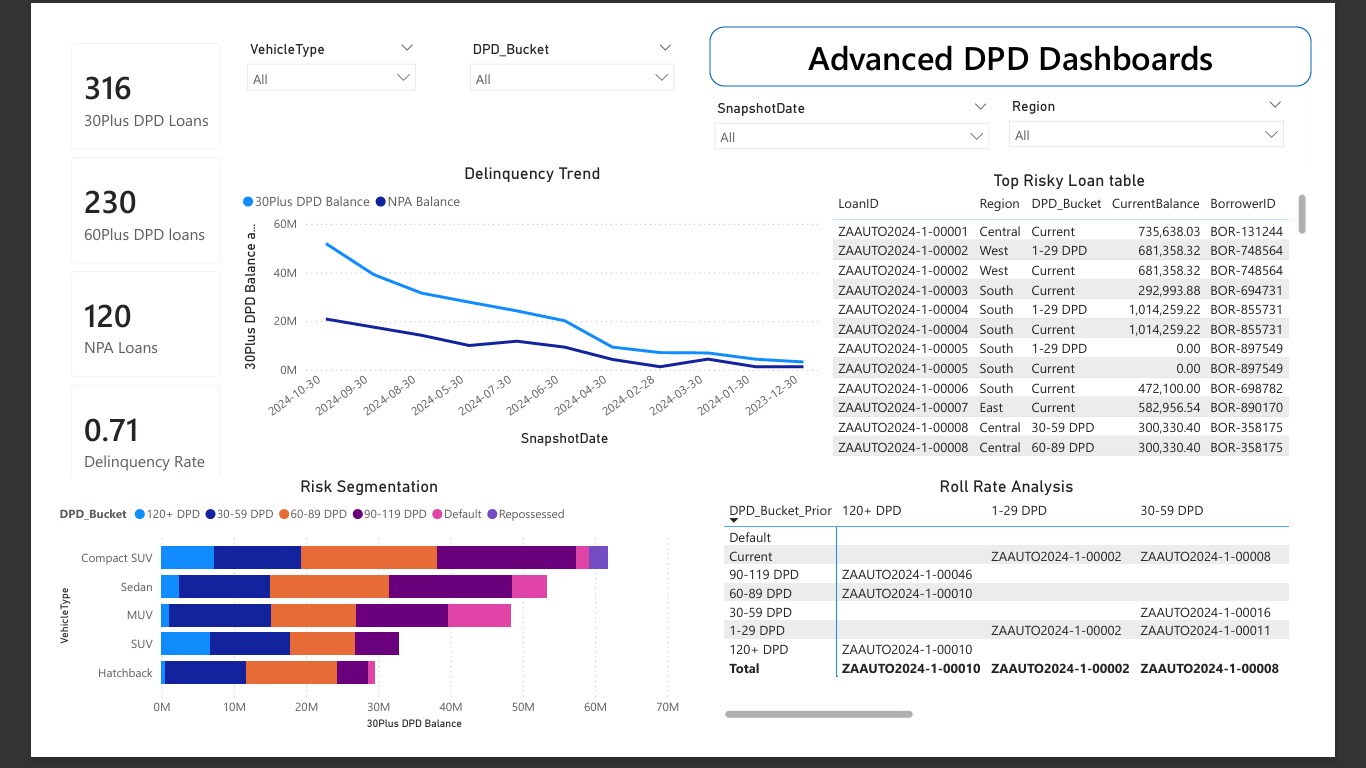

What the dashboard file says about the page in this screenshot:
{"tool":"powerbi","page":{"name":"Advanced DPD Dashboard","canvas":[1280,720],"ordinal":1},"visuals":[{"type":"cardVisual","fields":{"Data":["projects dim_date.30Plus DPD Loans","projects dim_date.60Plus DPD loans","projects dim_date.NPA Loans","projects dim_date.Delinquency Rate"]},"box":[0,0,185.5,491.3],"z":0},{"type":"pivotTable","title":"Roll Rate Analysis","fields":{"Rows":["projects fact_loan_performance.DPD_Bucket_Prior"],"Columns":["projects fact_loan_performance.DPD_Bucket"],"Values":["Min(projects fact_loan_performance.LoanID)"]},"box":[676.8,458,585.5,252.2],"z":1000},{"type":"lineChart","title":"Delinquency Trend","fields":{"Category":["projects fact_loan_performance.SnapshotDate"],"Y":["projects dim_date.30Plus DPD Balance","projects dim_date.NPA Balance"]},"box":[185.5,139.1,601.4,294.2],"z":2000},{"type":"barChart","title":"Risk Segmentation","fields":{"Category":["projects dim_loans.VehicleType"],"Series":["projects fact_loan_performance.DPD_Bucket"],"Y":["projects dim_date.30Plus DPD Balance"]},"box":[0,458,640.6,262.3],"z":3000},{"type":"tableEx","title":"Top Risky Loan table","fields":{"Values":["projects dim_loans.LoanID","projects dim_loans.Region","projects fact_loan_performance.DPD_Bucket","projects dim_loans.CurrentBalance","projects dim_loans.BorrowerID"]},"box":[787,146.4,492.8,301.4],"z":4000},{"type":"shape","box":[666.7,0,613,60.9],"z":5000},{"type":"slicer","fields":{"Values":["projects dim_loans.VehicleType"]},"box":[185.5,10.1,192.8,76.8],"z":6000},{"type":"slicer","fields":{"Values":["projects fact_loan_performance.DPD_Bucket"]},"box":[413,10.1,227.5,59.4],"z":7000},{"type":"slicer","fields":{"Values":["projects fact_loan_performance.SnapshotDate"]},"box":[662.3,69.6,300,62.3],"z":8000},{"type":"slicer","fields":{"Values":["projects dim_loans.Region"]},"box":[962.3,68.1,300,58],"z":9000}]}

Visuals, with their boxes in screenshot pixels (x1, y1, x2, y2), scaled from the page's 1280x720 canvas onto the 1366x768 screenshot:
cardVisual - projects dim_date.30Plus DPD Loans x projects dim_date.60Plus DPD loans: x1=0, y1=0, x2=198, y2=524
"Roll Rate Analysis" pivotTable: x1=722, y1=489, x2=1347, y2=758
"Delinquency Trend" lineChart: x1=198, y1=148, x2=840, y2=462
"Risk Segmentation" barChart: x1=0, y1=489, x2=684, y2=767
"Top Risky Loan table" tableEx: x1=840, y1=156, x2=1365, y2=478
shape: x1=711, y1=0, x2=1365, y2=65
slicer - projects dim_loans.VehicleType: x1=198, y1=11, x2=404, y2=93
slicer - projects fact_loan_performance.DPD_Bucket: x1=441, y1=11, x2=684, y2=74
slicer - projects fact_loan_performance.SnapshotDate: x1=707, y1=74, x2=1027, y2=141
slicer - projects dim_loans.Region: x1=1027, y1=73, x2=1347, y2=135
